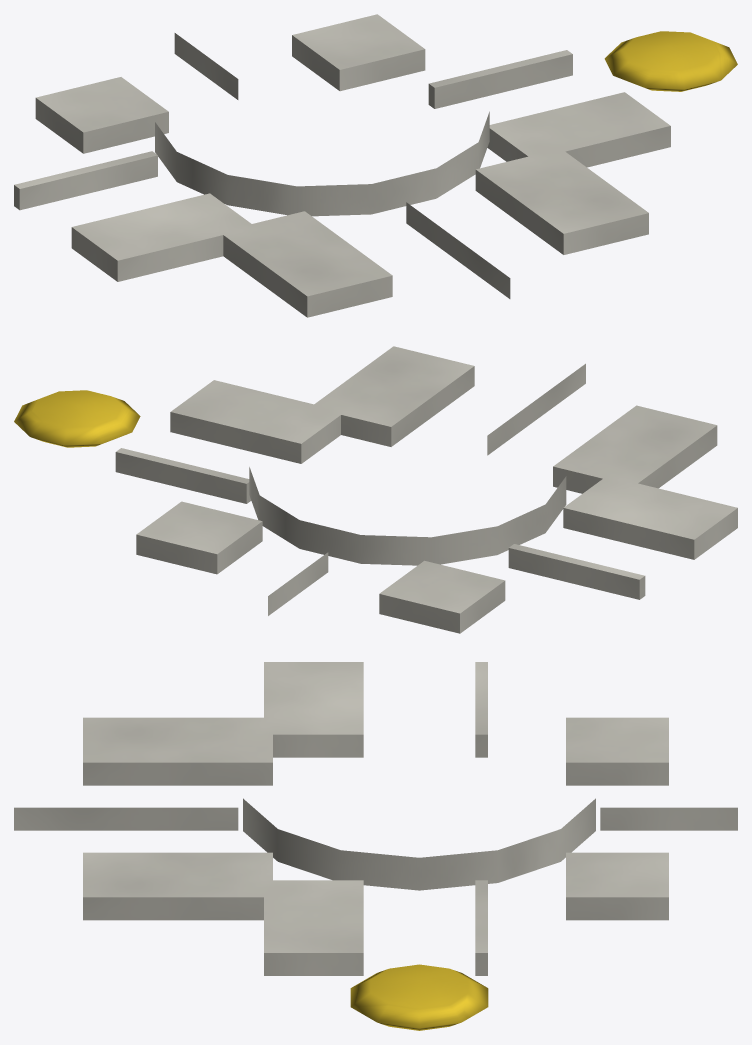
The model's file is key_ring.glb.
3 views of the same model, one above another, from view 1: azimuth 30°, elevation 25°; view 2: azimuth 150°, elevation 25°; view 3: azimuth 270°, elevation 25° (orthographic). The views are drawn at different scales.
Visible parts, largest first — view 1: key_ring; view 2: key_ring; view 3: key_ring.
Part boxes in pixels (box(x1,y1,x2,y2)): key_ring: box(14, 14, 737, 317); key_ring: box(14, 346, 737, 633); key_ring: box(14, 662, 737, 1030).
Size of the model in its own units: 0.2351 by 0.015 by 0.2.
Materials: 2 (2 with a texture image).
